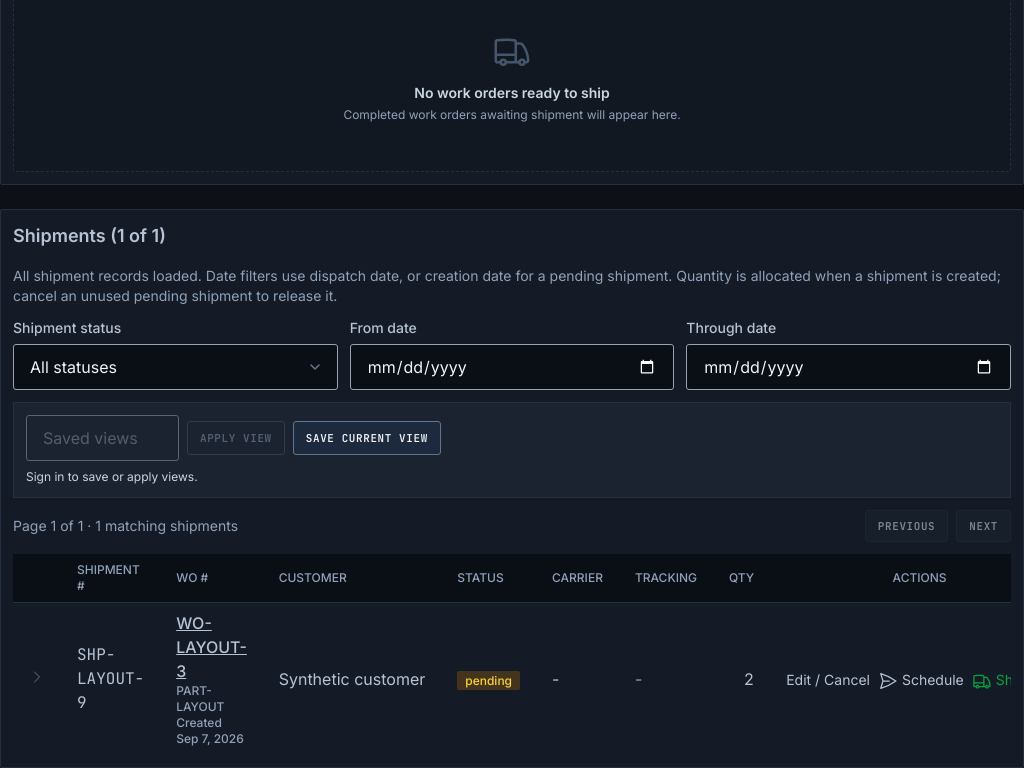
Test: closing pending shipment preserves its allocation and exposes labelled record context
(page scrolled)
Click the button "Edit / Cancel" at x=828, y=680, box [786,670,870,690]
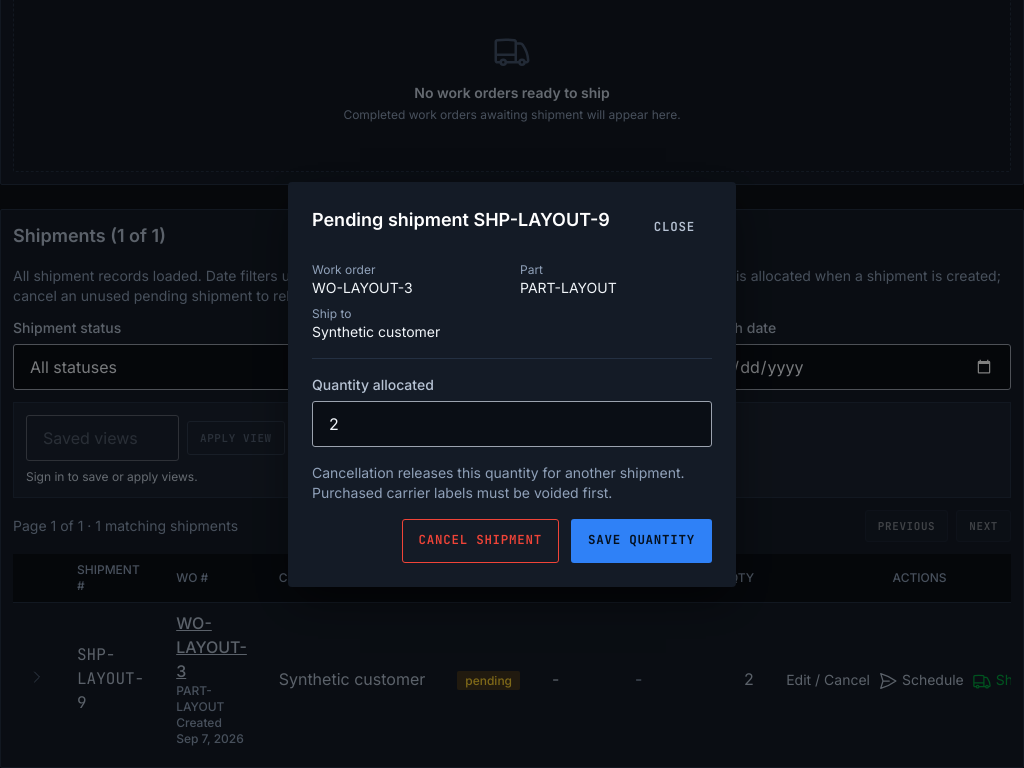
Expected: the text "WO-LAYOUT-3" is shown, [312,278,413,296]
Expected: the text "PART-LAYOUT" is shown, [520,278,617,296]
Expected: the button "Cancel shipment" is shown, [402,518,559,562]
Click the button with aria-label "Close pending shipment" at x=674, y=228, box [637,206,712,250]
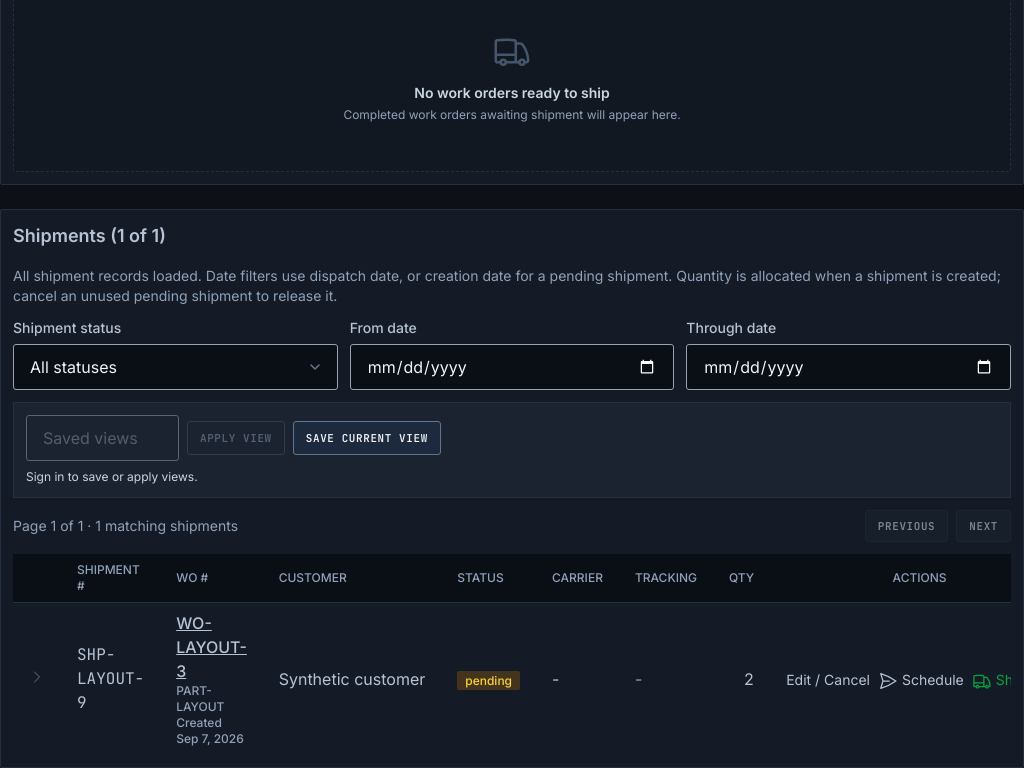
Expected: the dialog is gone
